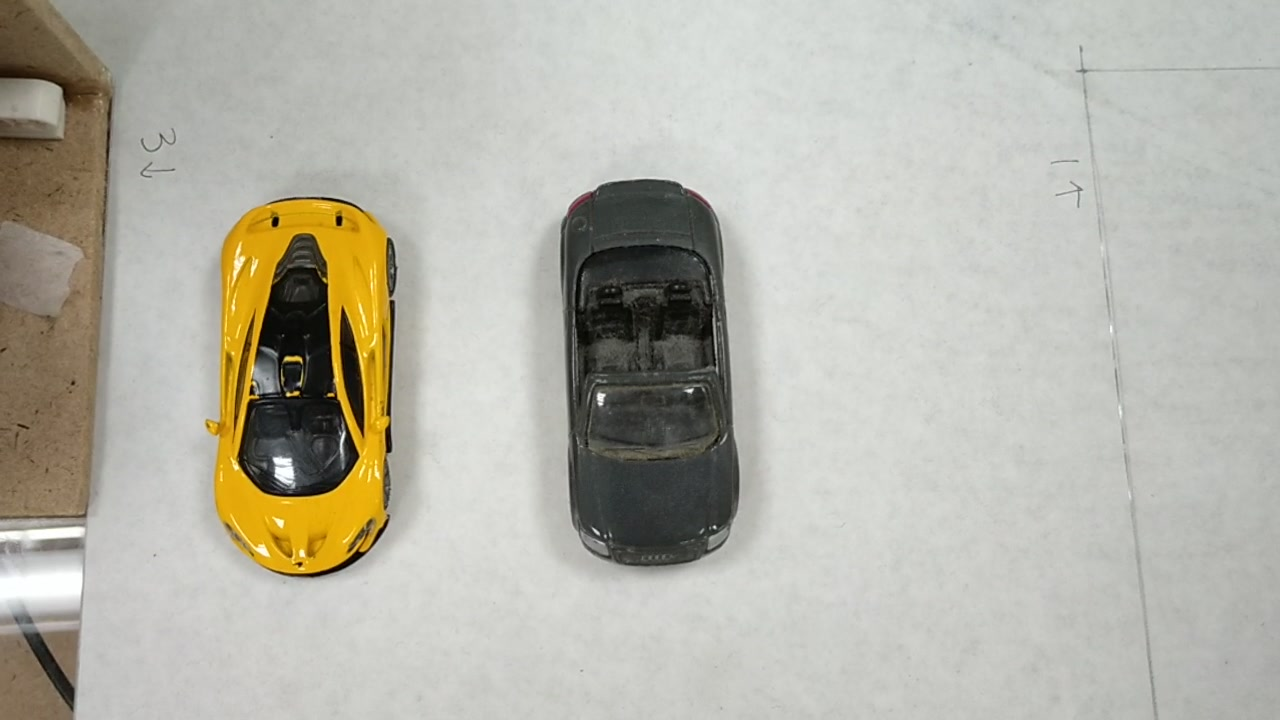car: (558, 178, 739, 546), (213, 199, 404, 541)
